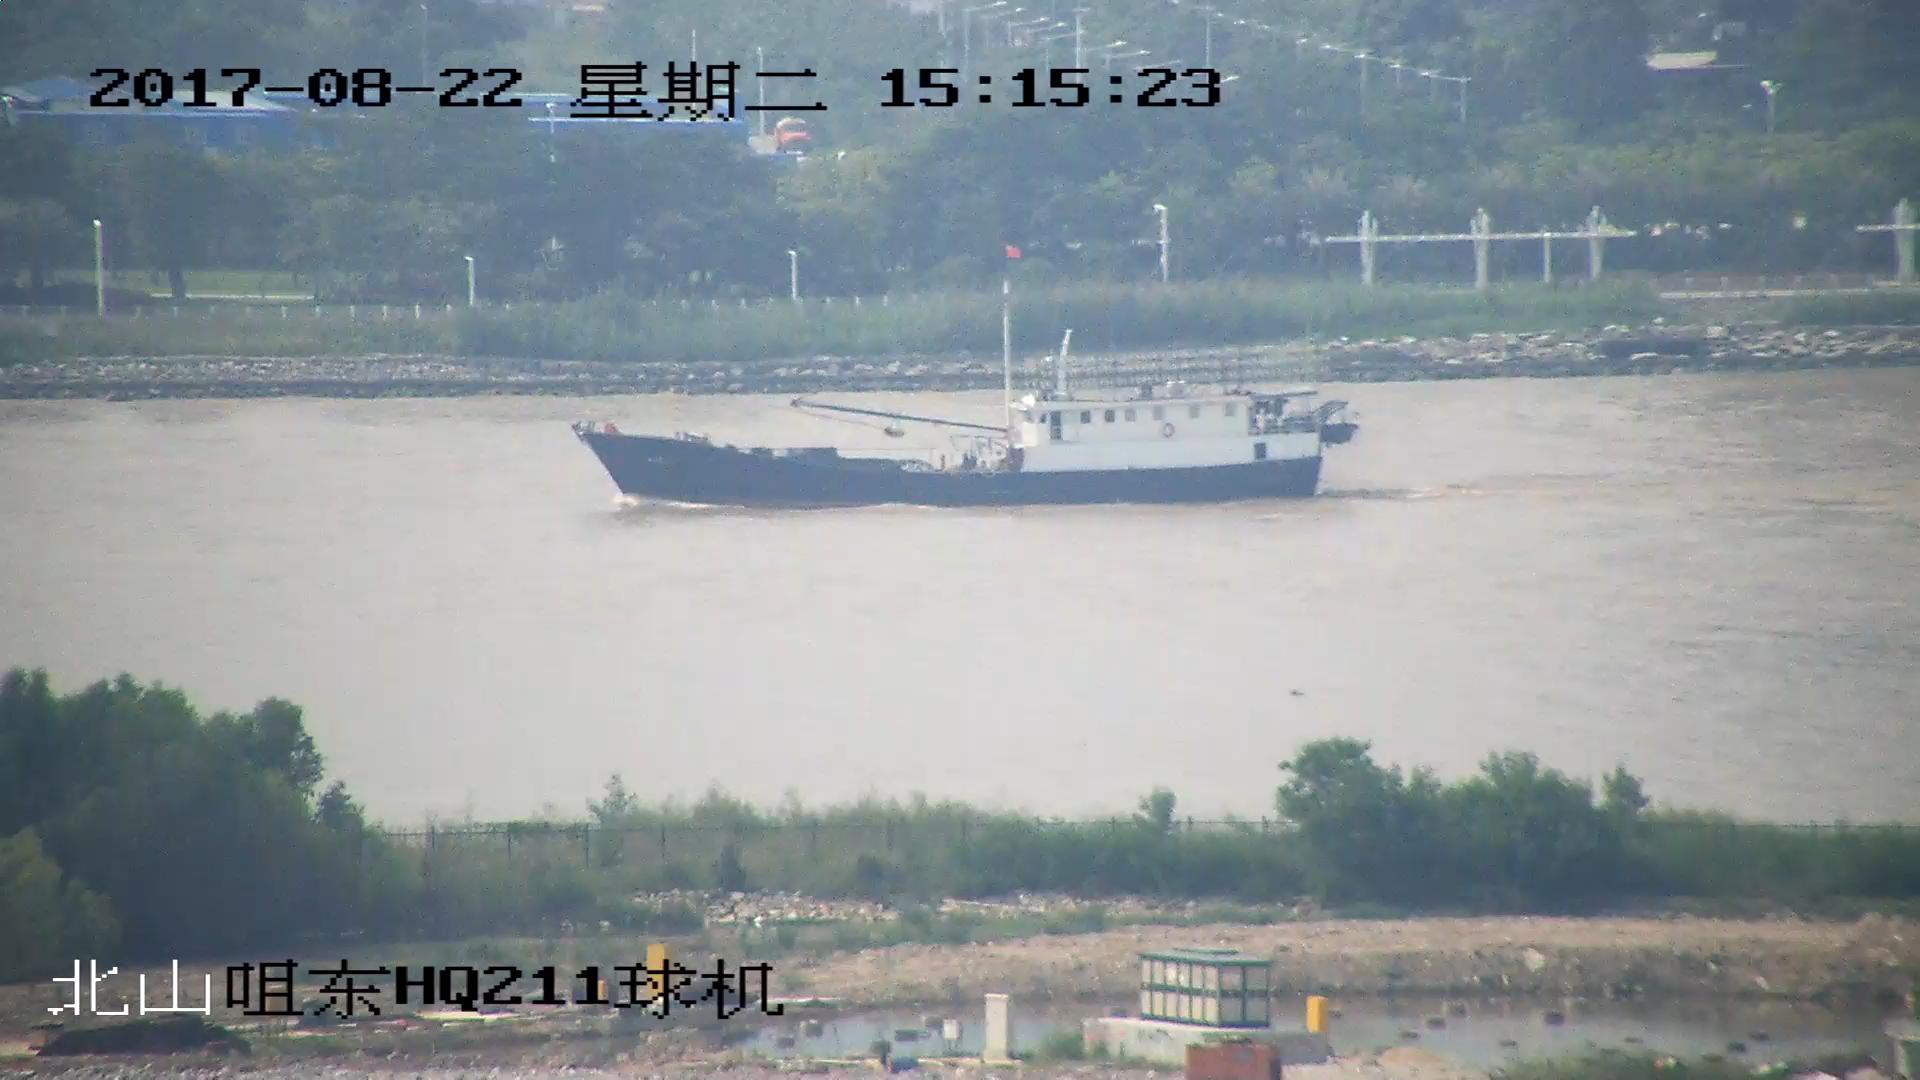fishing boat: (575, 272, 1356, 505)
